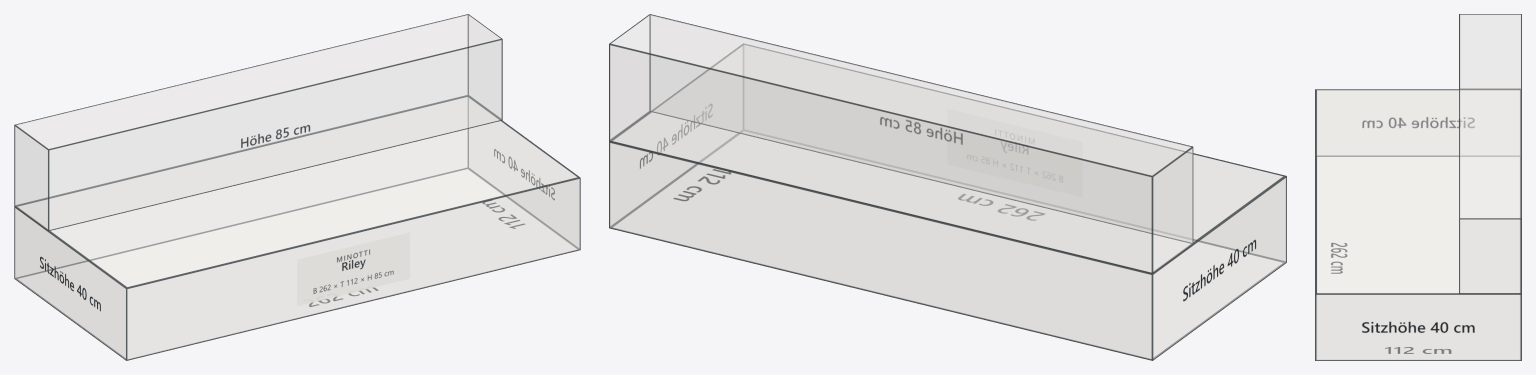
The model's file is sofas-riley--sofa-262-cm.glb.
3 renders of one model, left to right at view 1: azimuth 30°, elevation 25°; view 2: azimuth 150°, elevation 25°; view 3: azimuth 270°, elevation 25°, orthographic. The views are drawn at different scales.
Parts seen in each view (by area): view 1: sitz_oben, Grundflaeche, ruecken_vorne, ruecken_hinten, sitz_vorne, sitz_hinten, ruecken_oben, sitz_links, sitz_rechts, ruecken_links, ruecken_rechts; view 2: sitz_oben, Grundflaeche, ruecken_hinten, ruecken_vorne, sitz_hinten, ruecken_oben, sitz_vorne, sitz_links, sitz_rechts, ruecken_links, ruecken_rechts; view 3: sitz_oben, Grundflaeche, sitz_rechts, sitz_links, ruecken_oben, ruecken_rechts, ruecken_links.
Boxes of the visible parts, x1,y1,x2,y2 form: sitz_oben: (15,96,579,288); Grundflaeche: (15,168,579,359); ruecken_vorne: (48,39,502,231); ruecken_hinten: (15,14,468,205); sitz_vorne: (126,177,580,360); sitz_hinten: (15,97,468,278); ruecken_oben: (14,14,501,149); sitz_links: (14,206,126,360); sitz_rechts: (468,99,579,248); ruecken_links: (14,125,48,230); ruecken_rechts: (468,15,501,119); sitz_oben: (611,43,1286,272); Grundflaeche: (610,130,1285,359); ruecken_hinten: (609,44,1152,273); ruecken_vorne: (650,14,1192,243); sitz_hinten: (609,141,1152,360); ruecken_oben: (609,14,1192,176); sitz_vorne: (744,45,1286,261); sitz_links: (1152,176,1286,360); sitz_rechts: (610,104,742,226); ruecken_links: (1152,147,1193,273); ruecken_rechts: (610,15,649,140); sitz_oben: (1315,89,1520,293); Grundflaeche: (1316,156,1520,359); sitz_rechts: (1315,294,1521,360); sitz_links: (1317,90,1519,155); ruecken_oben: (1459,14,1521,218); ruecken_rechts: (1459,218,1521,293); ruecken_links: (1460,14,1520,89).
Size of the model in its own units: 2.62 by 0.85 by 1.12.
Materials: 11 (11 with a texture image).
